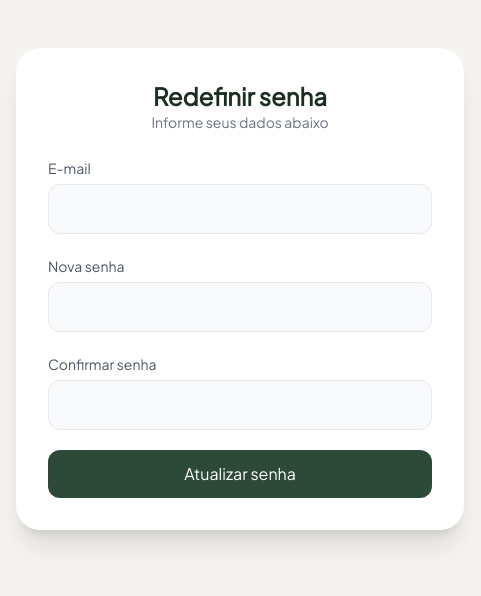
ResetPasswordView.vue › shows error message if passwords do not match
Type "test@email.com" into the field at (240, 209), box [48,184,432,234]
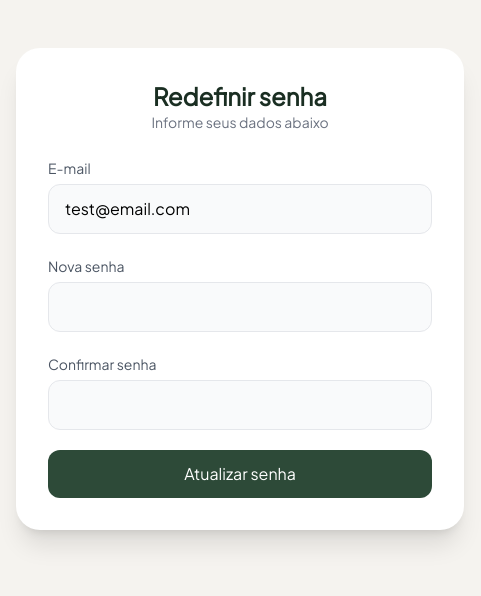
Type "pwd1" into the password field below "Nova senha" at (240, 307), box [48,282,432,332]
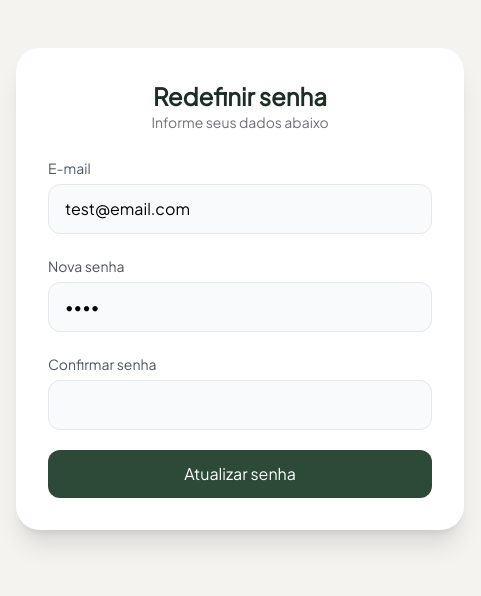
Type "pwd2" into the password field below "Confirmar senha" at (240, 405), box [48,380,432,430]
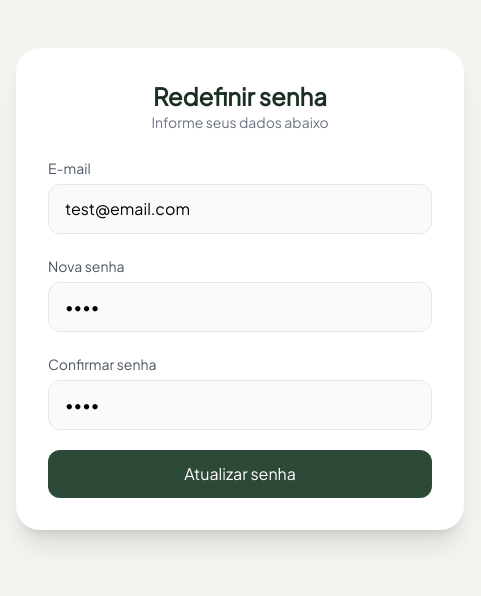
Submit the form, box [48,156,432,498]
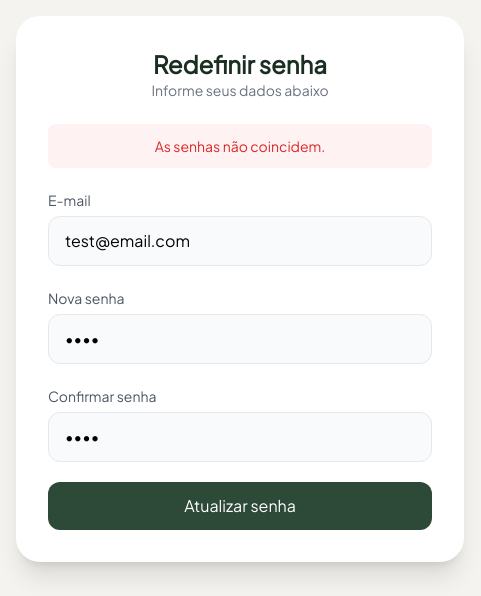
Expected: the text "As senhas não coincidem" is shown, [155,137,325,155]
